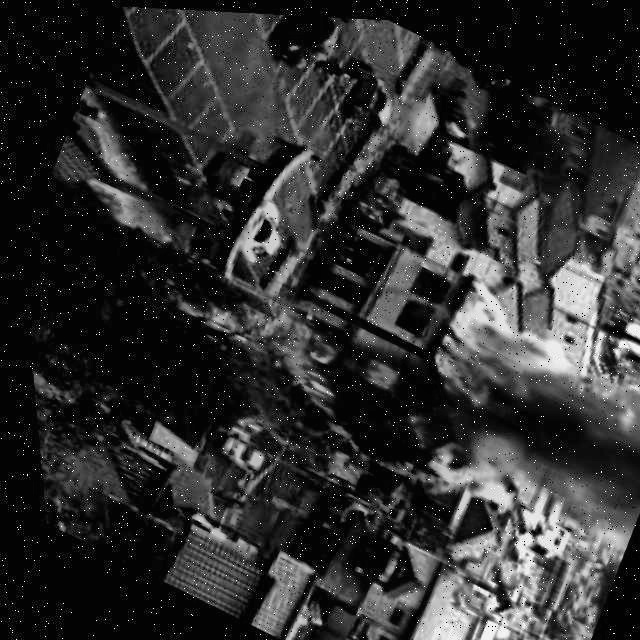Fire: (281, 318, 444, 454)
Smoke: (442, 313, 640, 542)
